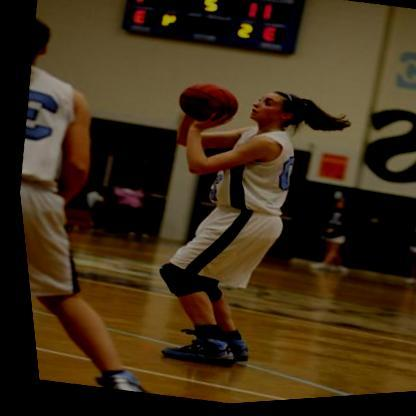basketball: (169, 79, 239, 138)
